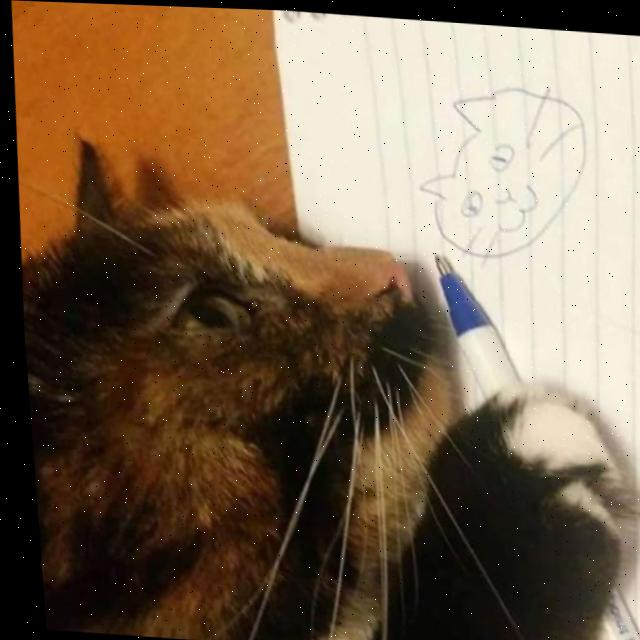Cats: (9, 161, 636, 640)
